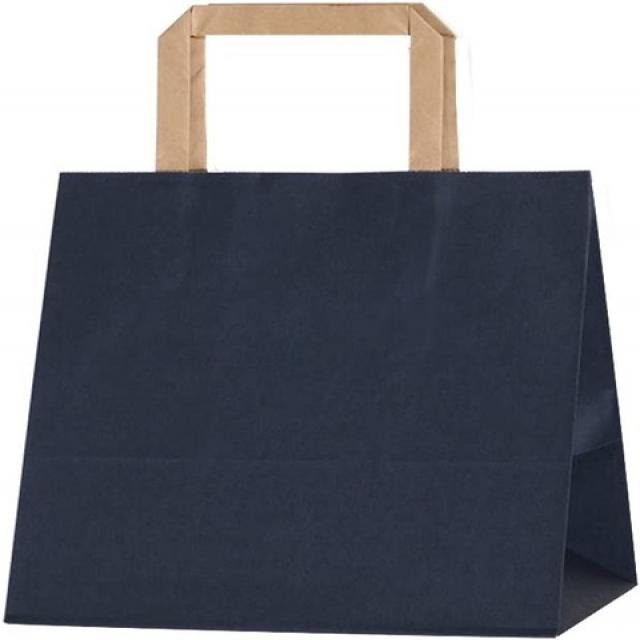paper bag: (8, 3, 637, 634)
